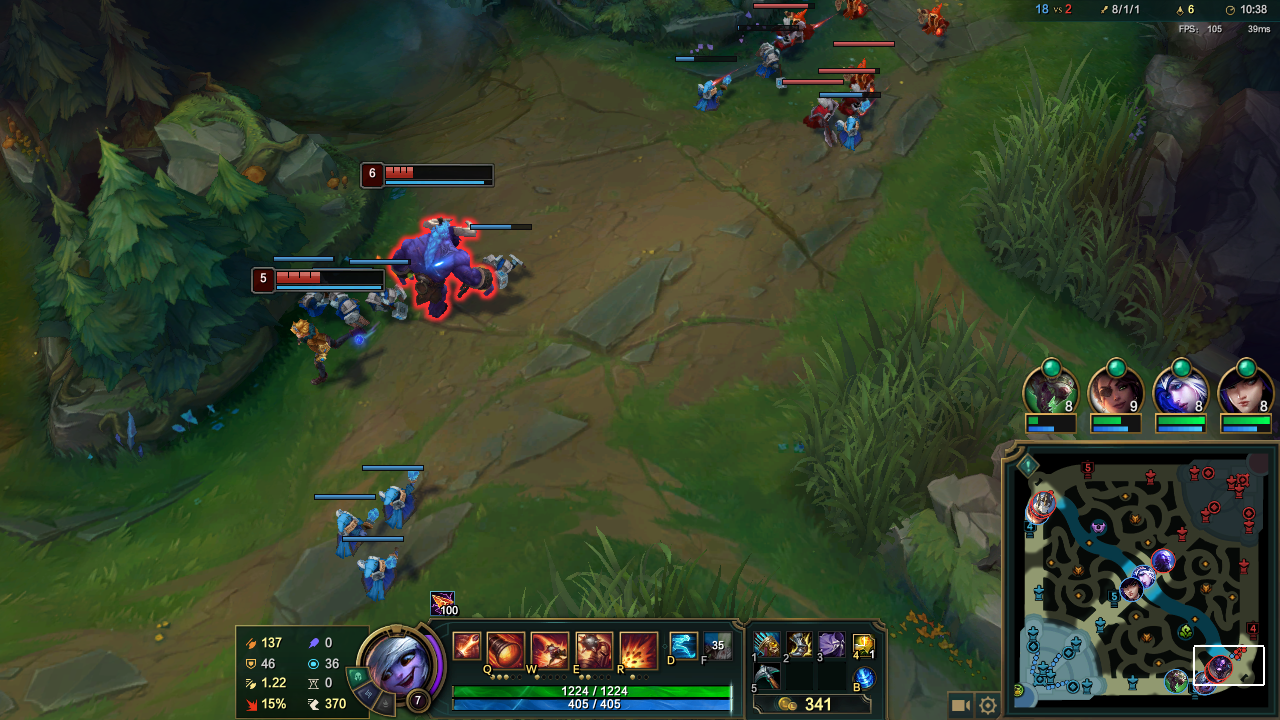DFXB: (794, 89, 839, 133), (832, 59, 889, 92), (780, 13, 823, 54), (912, 5, 957, 34), (837, 1, 872, 22)
DFYX: (273, 273, 350, 294), (382, 161, 448, 183)
WFXB: (365, 473, 439, 535), (318, 497, 383, 561), (354, 547, 404, 599), (329, 295, 385, 339), (484, 247, 538, 291), (368, 284, 417, 331), (827, 106, 876, 151), (686, 75, 740, 113), (750, 42, 789, 87)
